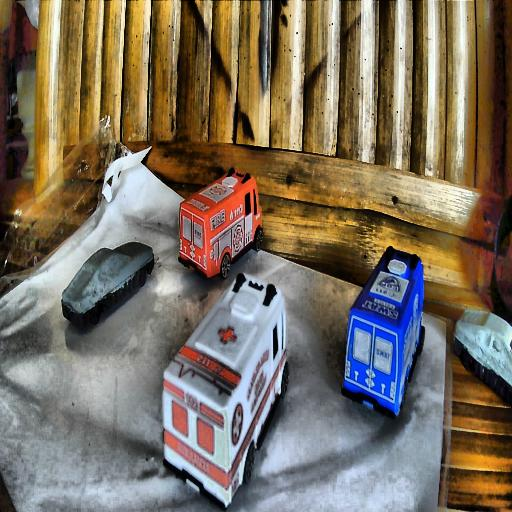ambulance: (162, 270, 284, 510)
fire_truck: (176, 166, 261, 280)
normal_car: (60, 242, 154, 331)
police car: (340, 242, 424, 418)
